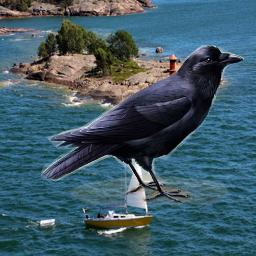Crow: (41, 45, 244, 205)
